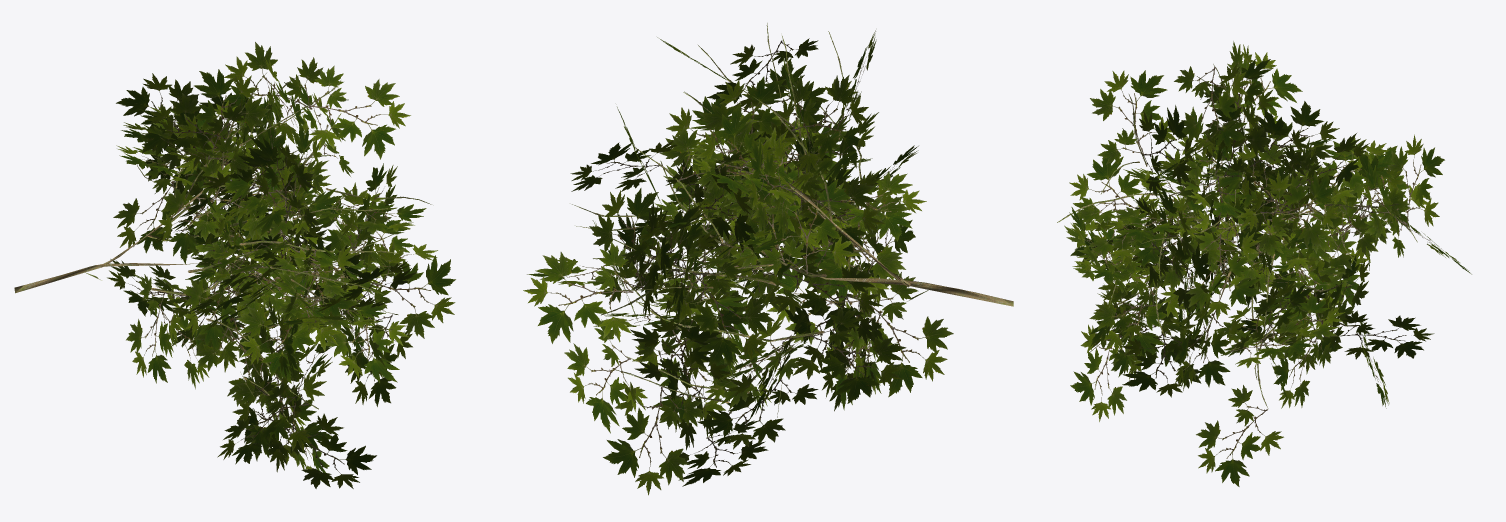
File: TreeLow.fbx
3 views of the same model, side by side, from view 1: azimuth 30°, elevation 25°; view 2: azimuth 150°, elevation 25°; view 3: azimuth 270°, elevation 25° (orthographic). The views are drawn at different scales.
Parts seen in each view (by area): view 1: Tree1.1001; view 2: Tree1.1001; view 3: Tree1.1001.
Boxes of the visible parts, left/top/right/bottom form: Tree1.1001: left=14, top=42, right=455, bottom=488; Tree1.1001: left=523, top=23, right=1013, bottom=495; Tree1.1001: left=1057, top=41, right=1471, bottom=486.
Bounding box in the file's own units: 83.47 × 84.08 × 81.57.
